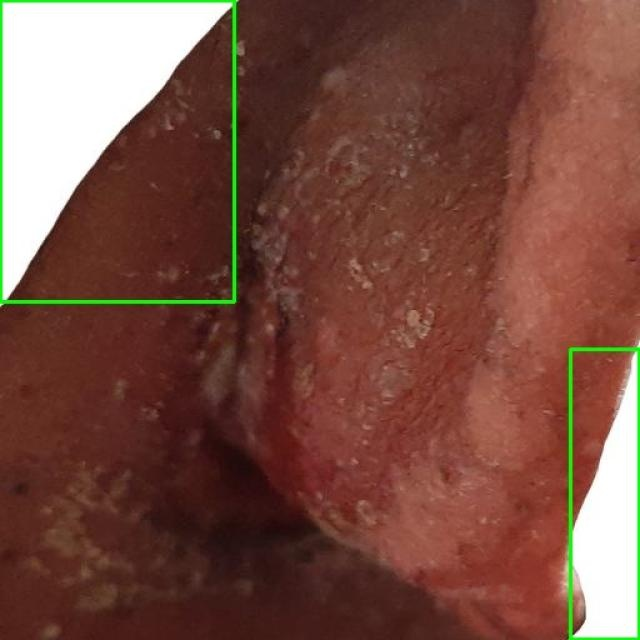Contact Dermatitis: (0, 0, 234, 301), (570, 349, 639, 639)
